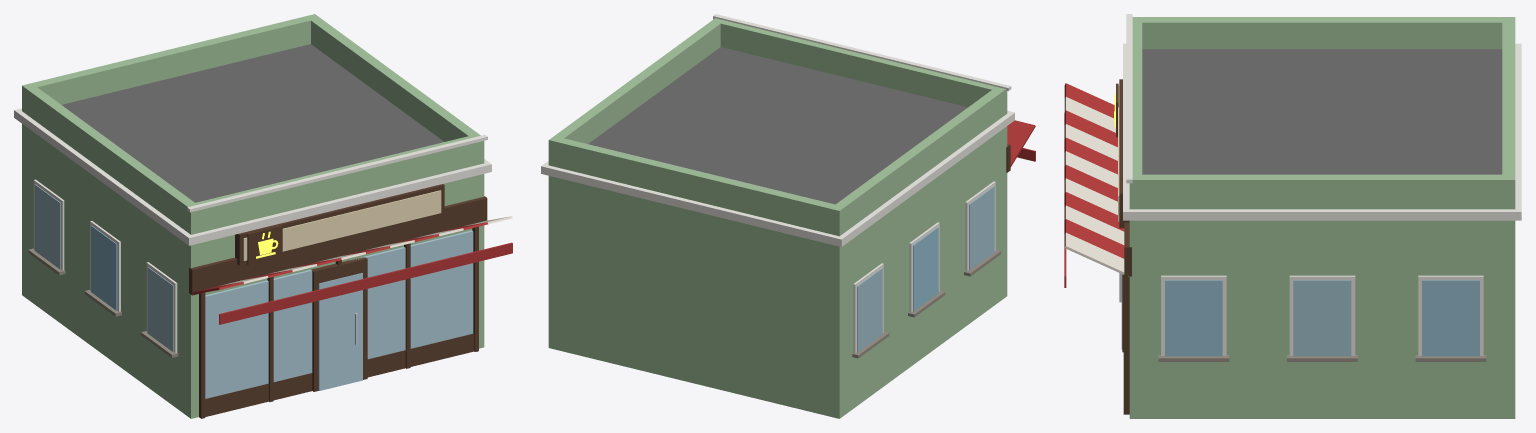
Rendered from Shop_Cafe.glb.
3 views of the same model, side by side, from view 1: azimuth 30°, elevation 25°; view 2: azimuth 150°, elevation 25°; view 3: azimuth 270°, elevation 25° (orthographic). The views are drawn at different scales.
Visible parts, largest first — view 1: Shop_Cafe; view 2: Shop_Cafe; view 3: Shop_Cafe.
Boxes of the visible parts, bbox=[...] form: Shop_Cafe: bbox=[14, 14, 512, 418]; Shop_Cafe: bbox=[541, 14, 1035, 418]; Shop_Cafe: bbox=[1064, 14, 1521, 418].
Bounding box in the file's own units: 6.26 × 4.13 × 7.11.
Materials: 1 (1 with a texture image).
